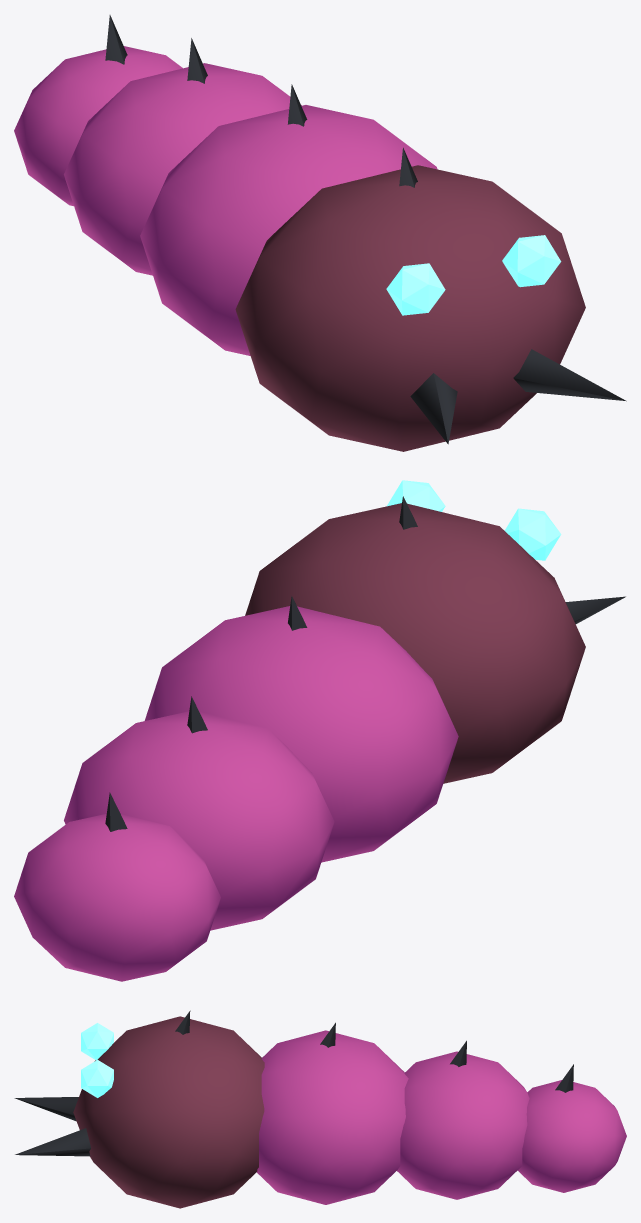
The model's file is en_crawler.glb.
3 views of the same model, one above another, from view 1: azimuth 30°, elevation 25°; view 2: azimuth 150°, elevation 25°; view 3: azimuth 270°, elevation 25° (orthographic). The views are drawn at different scales.
Visible parts, largest first — view 1: seg0, seg1, seg2, torso, seg3; view 2: seg0, seg1, seg2, seg3, torso; view 3: seg0, seg1, seg2, seg3, torso.
Part boxes in pixels (<box>): seg0: <box>235,165,585,451</box>; seg1: <box>140,105,437,355</box>; seg2: <box>64,63,301,275</box>; torso: <box>105,15,626,444</box>; seg3: <box>14,46,182,206</box>; seg0: <box>245,503,585,783</box>; seg1: <box>144,606,458,862</box>; seg2: <box>64,711,334,930</box>; seg3: <box>14,814,220,981</box>; torso: <box>105,480,625,831</box>; seg0: <box>73,1016,264,1208</box>; seg1: <box>256,1030,408,1204</box>; seg2: <box>397,1051,529,1199</box>; seg3: <box>518,1080,626,1192</box>; torso: <box>14,1010,573,1156</box>.
Bounding box in the file's own units: 0.484 × 0.4189 × 1.26.
